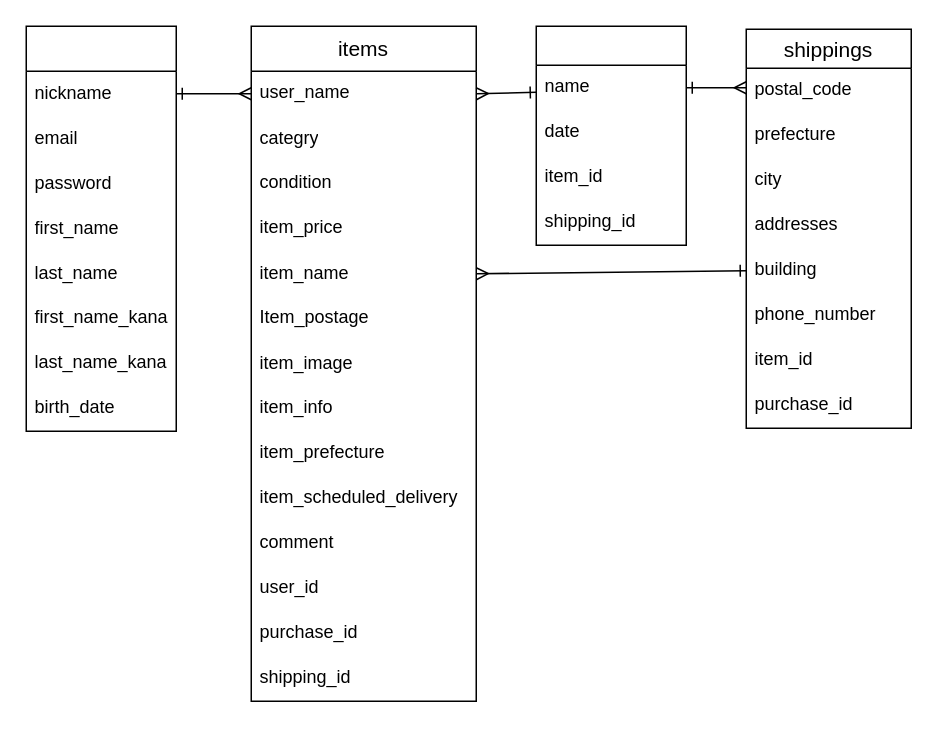
Image size: 938x732. Some labels were removed from this diagram. The shapes that lost their labels are listed below. From the top down, each one's box as (x1, y1, x2, y2) in pixels, then its label:
(535, 25, 686, 245): purchases
(25, 25, 176, 431): users
